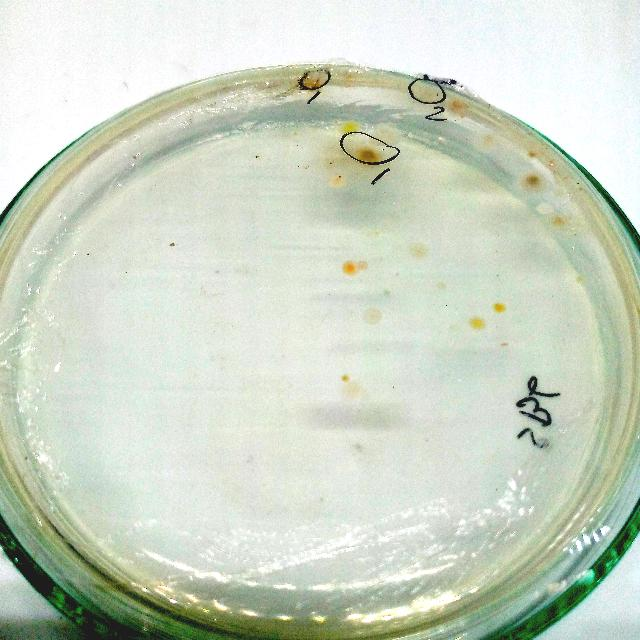colony: (473, 125, 501, 153), (412, 80, 440, 106), (360, 304, 386, 328), (355, 144, 381, 168), (408, 240, 430, 264), (522, 168, 546, 190), (446, 96, 468, 116), (338, 119, 360, 139), (301, 71, 321, 93), (340, 258, 360, 278), (467, 316, 487, 334), (549, 212, 569, 228), (490, 300, 510, 314), (338, 371, 352, 385), (435, 280, 449, 292), (356, 258, 368, 272), (526, 150, 538, 162), (498, 338, 510, 348)
